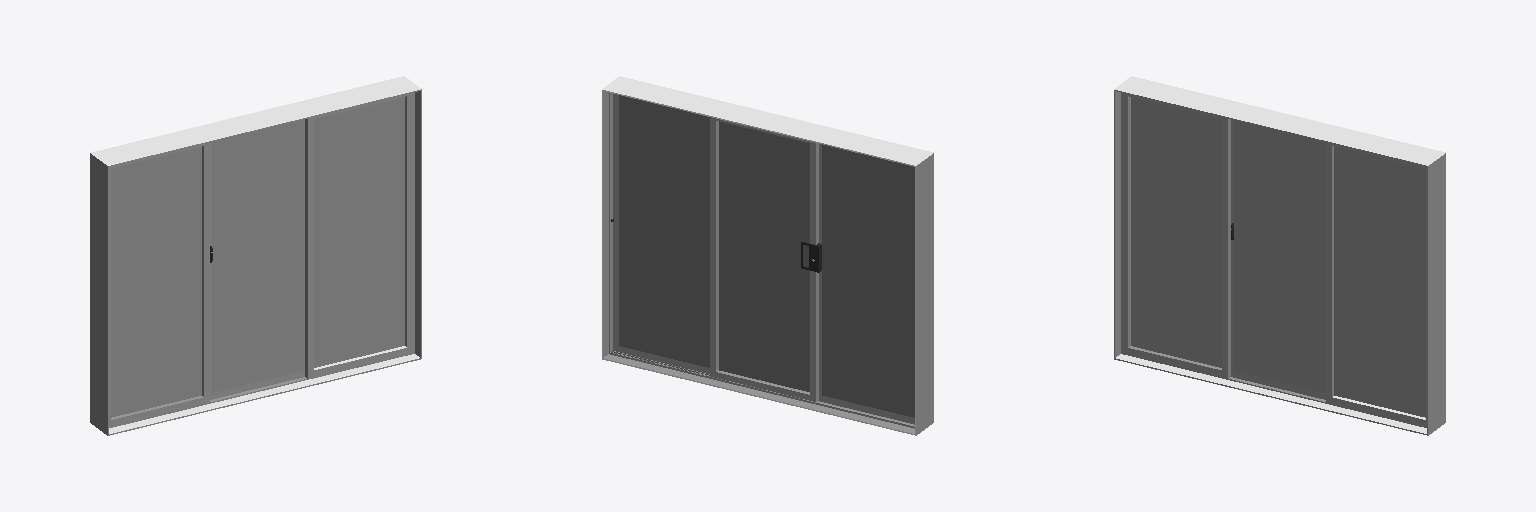
3 views of the same model, side by side, from view 1: azimuth 30°, elevation 25°; view 2: azimuth 150°, elevation 25°; view 3: azimuth 330°, elevation 25° (orthographic).
Parts seen in each view (by area): view 1: SketchUp.010_ID75, SketchUp.012_ID89, SketchUp.001_ID10, SketchUp_ID2, SketchUp.003_ID29, SketchUp.004_ID35, SketchUp.005_ID43; view 2: SketchUp.006_ID49, SketchUp.013_ID97, SketchUp.011_ID83, SketchUp_ID2, SketchUp.004_ID35, SketchUp.003_ID29, SketchUp.002_ID23; view 3: SketchUp.010_ID75, SketchUp.012_ID89, SketchUp.001_ID10, SketchUp_ID2, SketchUp.003_ID29, SketchUp.004_ID35, SketchUp.005_ID43.
Part boxes in pixels (x1,y1,x2,y2): SketchUp.010_ID75: (212, 119, 304, 392); SketchUp.012_ID89: (314, 97, 404, 367); SketchUp.001_ID10: (111, 147, 201, 417); SketchUp_ID2: (109, 91, 420, 427); SketchUp.003_ID29: (90, 89, 421, 435); SketchUp.004_ID35: (91, 76, 420, 165); SketchUp.005_ID43: (109, 354, 419, 433); SketchUp.006_ID49: (822, 144, 914, 417); SketchUp.013_ID97: (619, 95, 709, 367); SketchUp.011_ID83: (719, 121, 809, 391); SketchUp_ID2: (610, 93, 914, 426); SketchUp.004_ID35: (602, 76, 933, 435); SketchUp.003_ID29: (916, 153, 933, 435); SketchUp.002_ID23: (603, 91, 914, 433); SketchUp.010_ID75: (1234, 120, 1325, 392); SketchUp.012_ID89: (1334, 146, 1425, 417); SketchUp.001_ID10: (1131, 97, 1221, 367); SketchUp_ID2: (1115, 91, 1426, 427); SketchUp.003_ID29: (1114, 90, 1445, 435); SketchUp.004_ID35: (1114, 76, 1445, 165); SketchUp.005_ID43: (1116, 354, 1426, 433).
Bounding box in the file's own units: 8.46 × 6.94 × 0.8564.